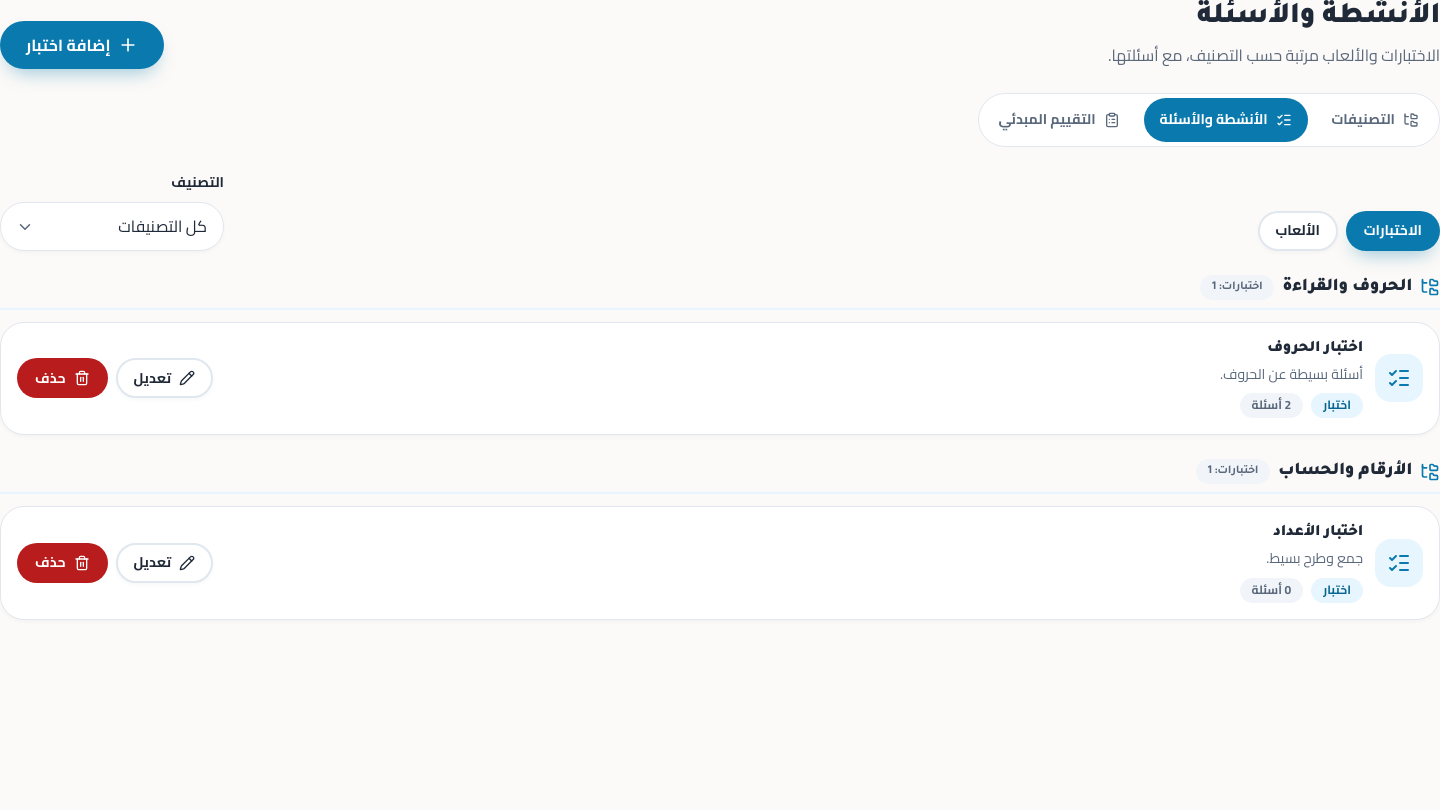
Test: ActivitiesPage › rejects an invalid slug before sending
Expected: the link "اختبار الحروف" is shown, [1267,341,1363,357]
Click the button "إضافة اختبار" at (82, 45), box [0,21,164,69]
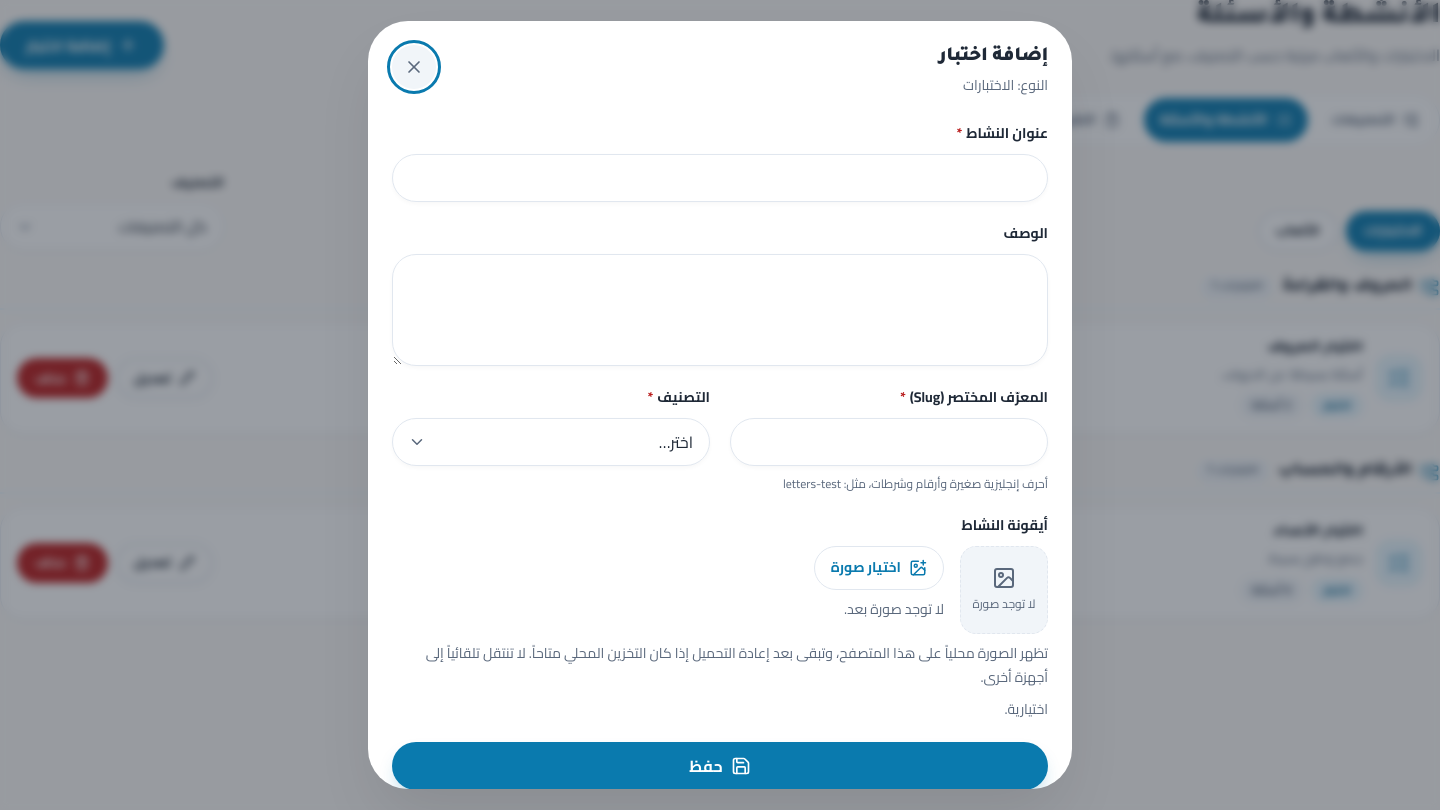
Type "Bad Slug" into the field labelled "المعرّف المختصر (Slug)*" at (889, 442), box [730,418,1048,466]
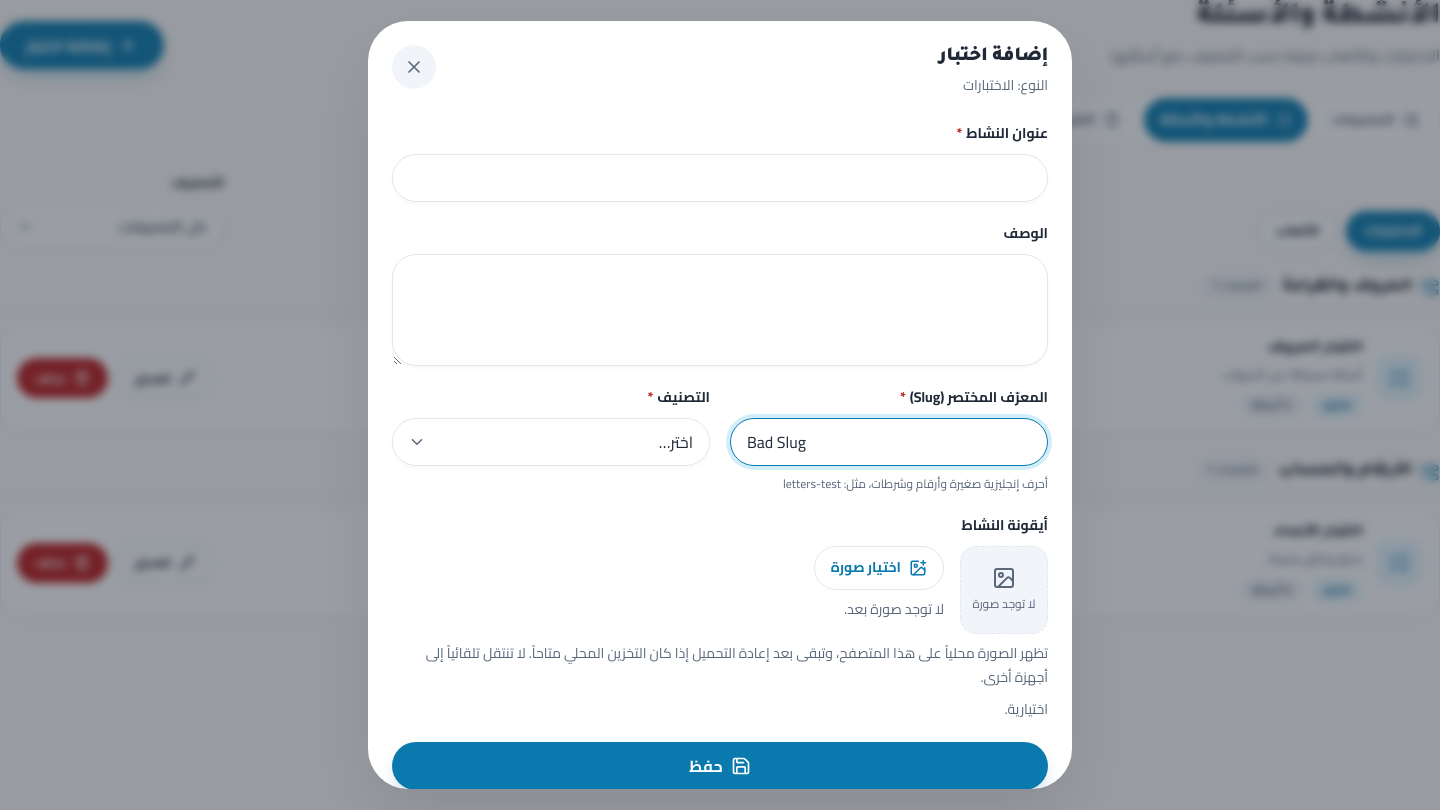
Click the button "حفظ" at (720, 766), box [392,742,1048,790]
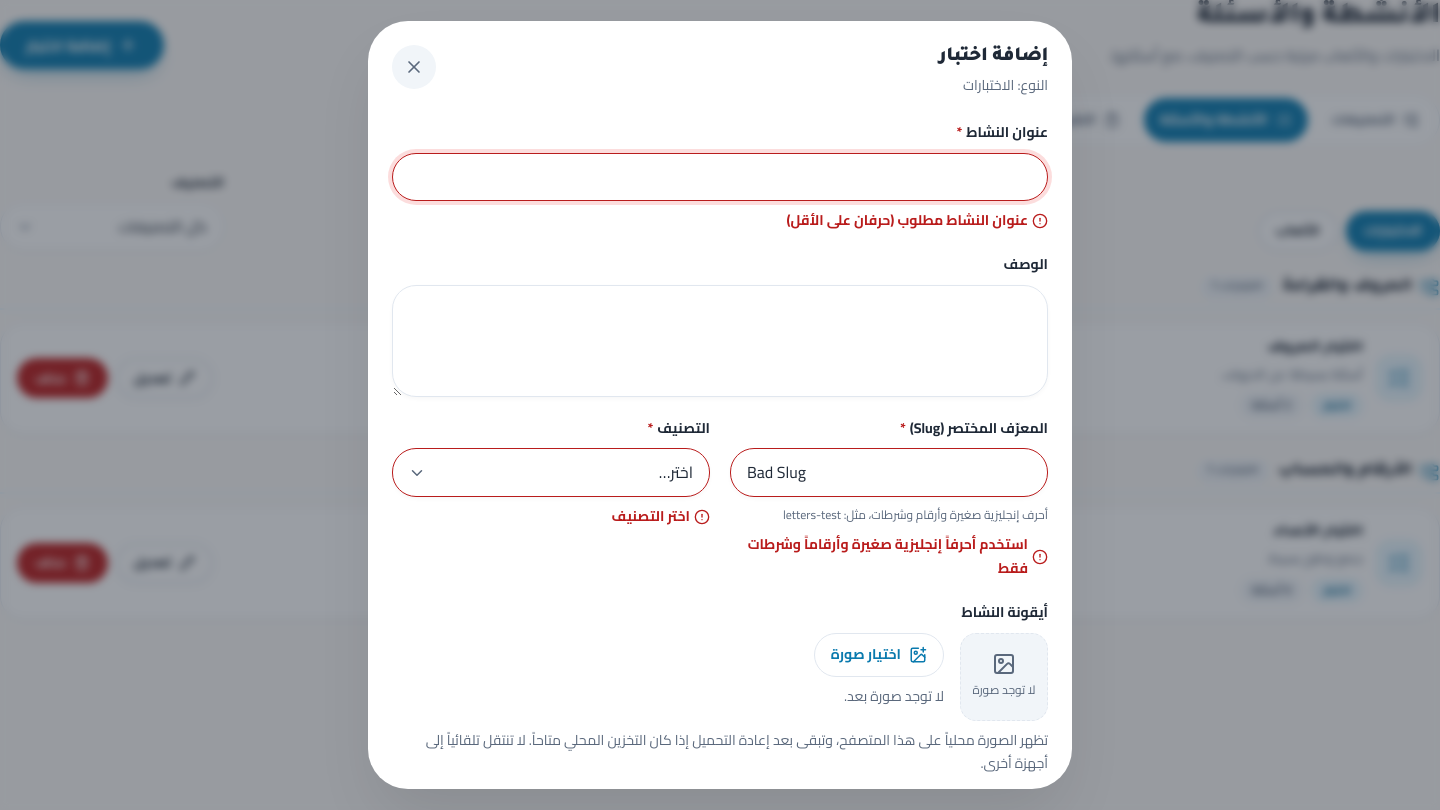
Now the text "استخدم أحرفاً إنجليزية صغيرة وأرقاماً وشرطات فقط" is shown, box [730,533,1048,581]
Now the text "اختر التصنيف" is shown, box [612,503,710,529]
